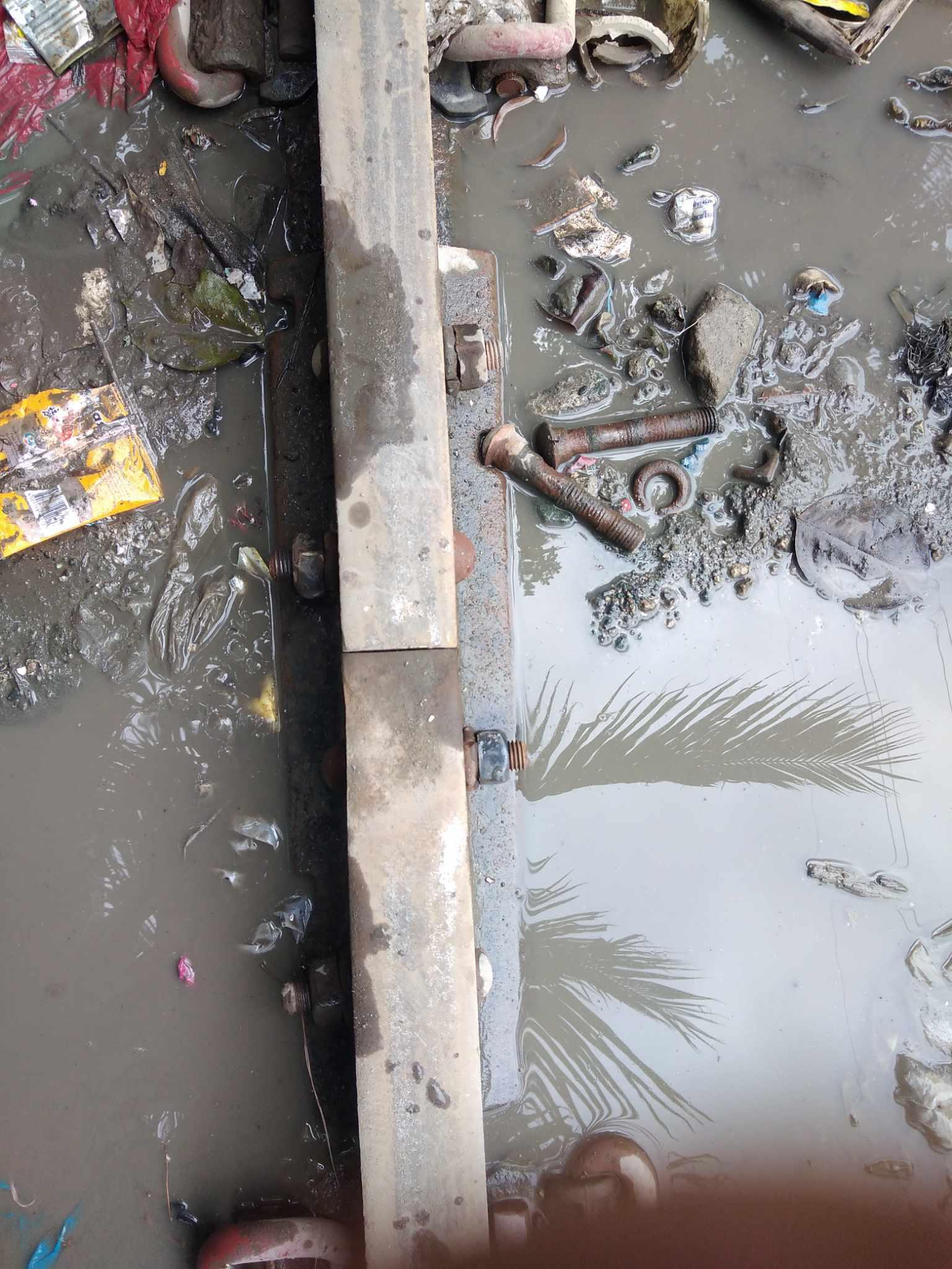railway-gap: (308, 547, 492, 746)
